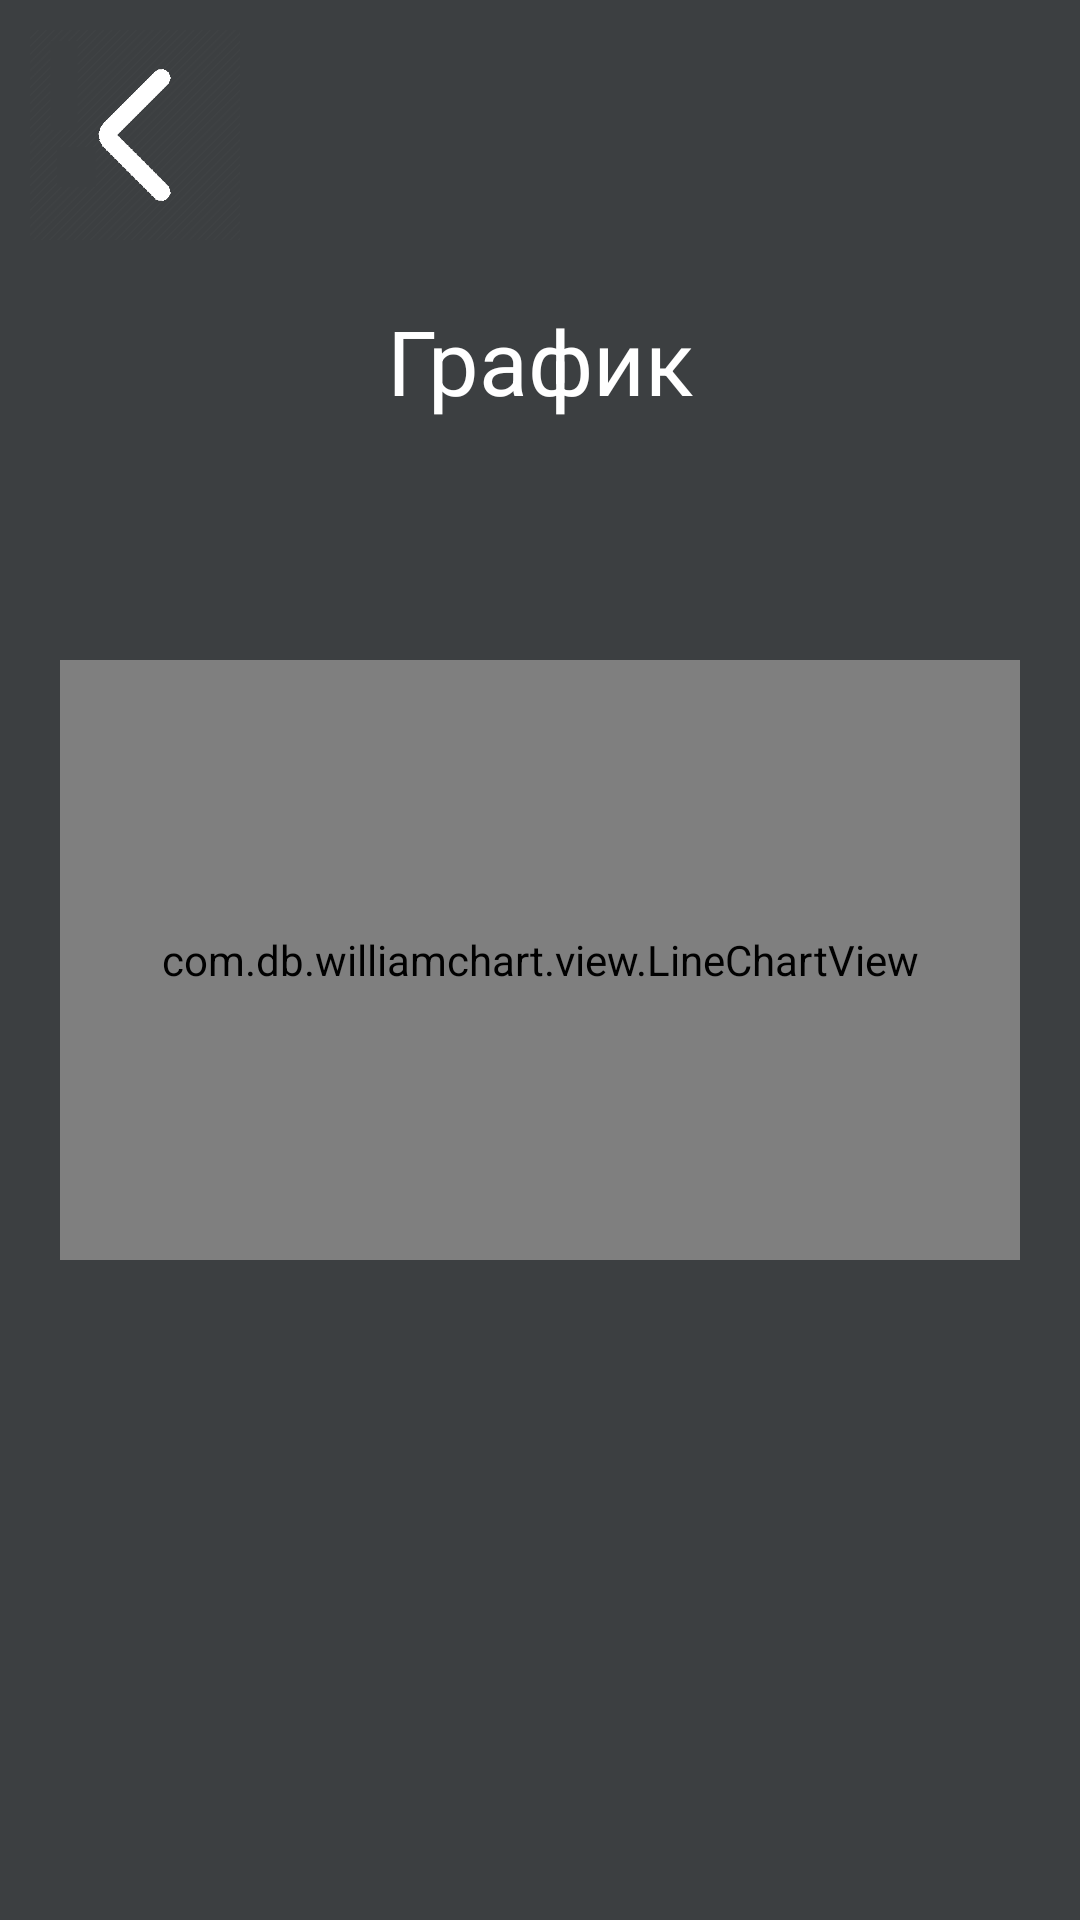

Icon click points for this 1080 × 1920 phone screenshot, format point (x, y):
arrow: point (134, 135)
